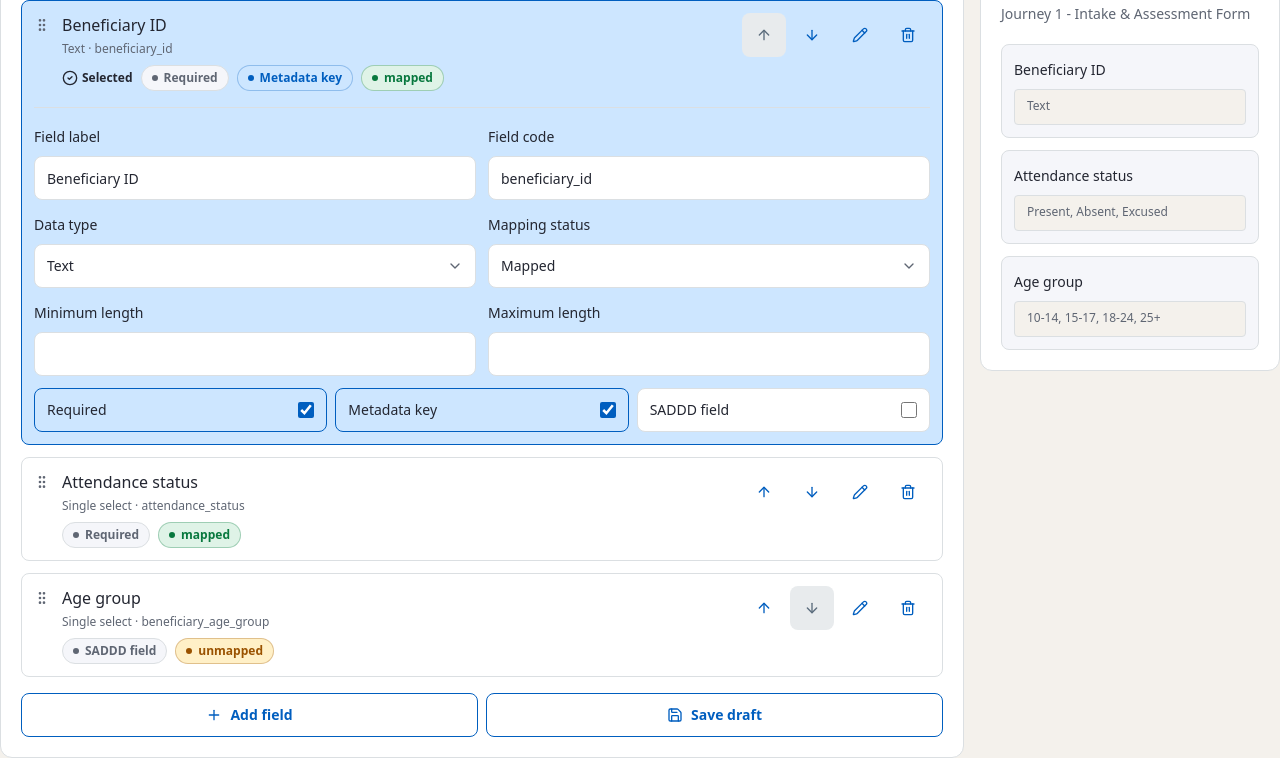
Test case: collection field selection › requires a contextual confirmation before deleting a field and restores useful focus
(page scrolled)
Click the button named "Delete Age group": (908, 608) x1=886 y1=586 x2=930 y2=630
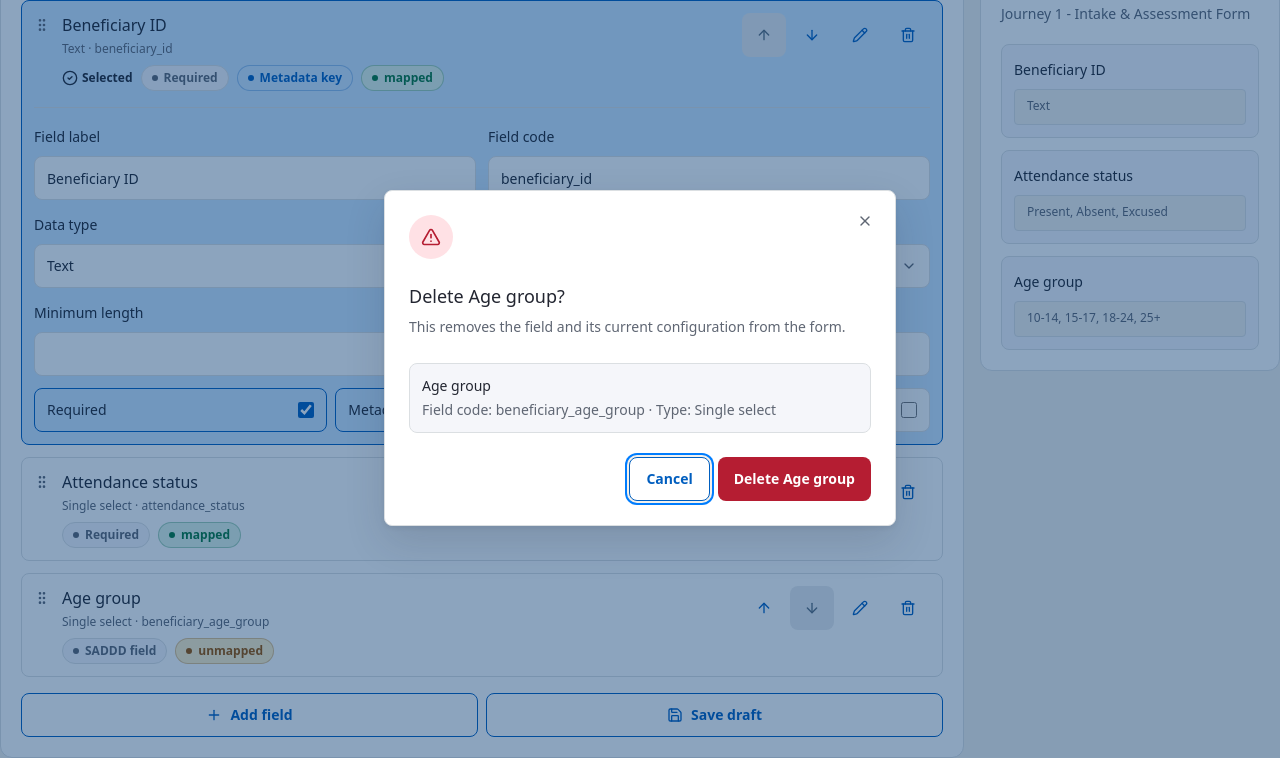
Expected: the dialog "Delete Age group?" shows "Field code: beneficiary_age_group", x1=384 y1=190 x2=896 y2=526
Click the button "Cancel": (670, 479) x1=629 y1=457 x2=710 y2=501
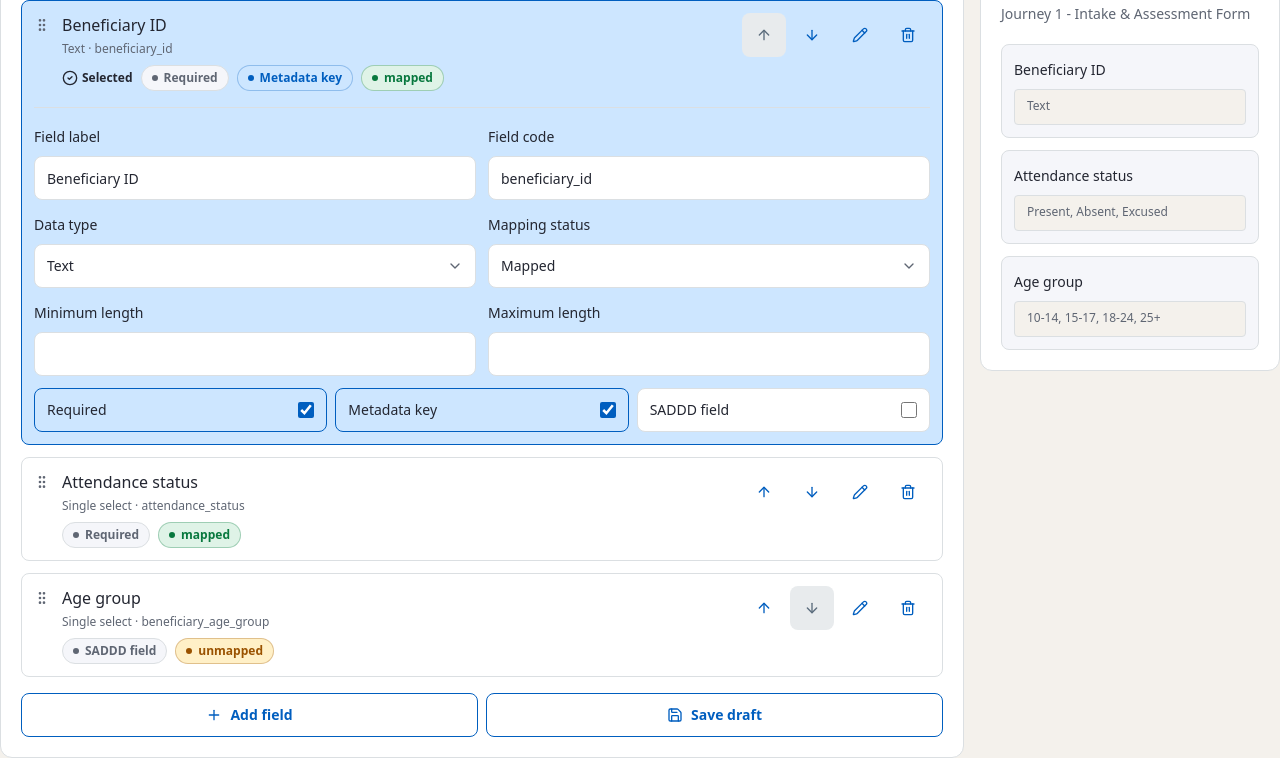
Click the button named "Delete Age group": (908, 608) x1=886 y1=586 x2=930 y2=630
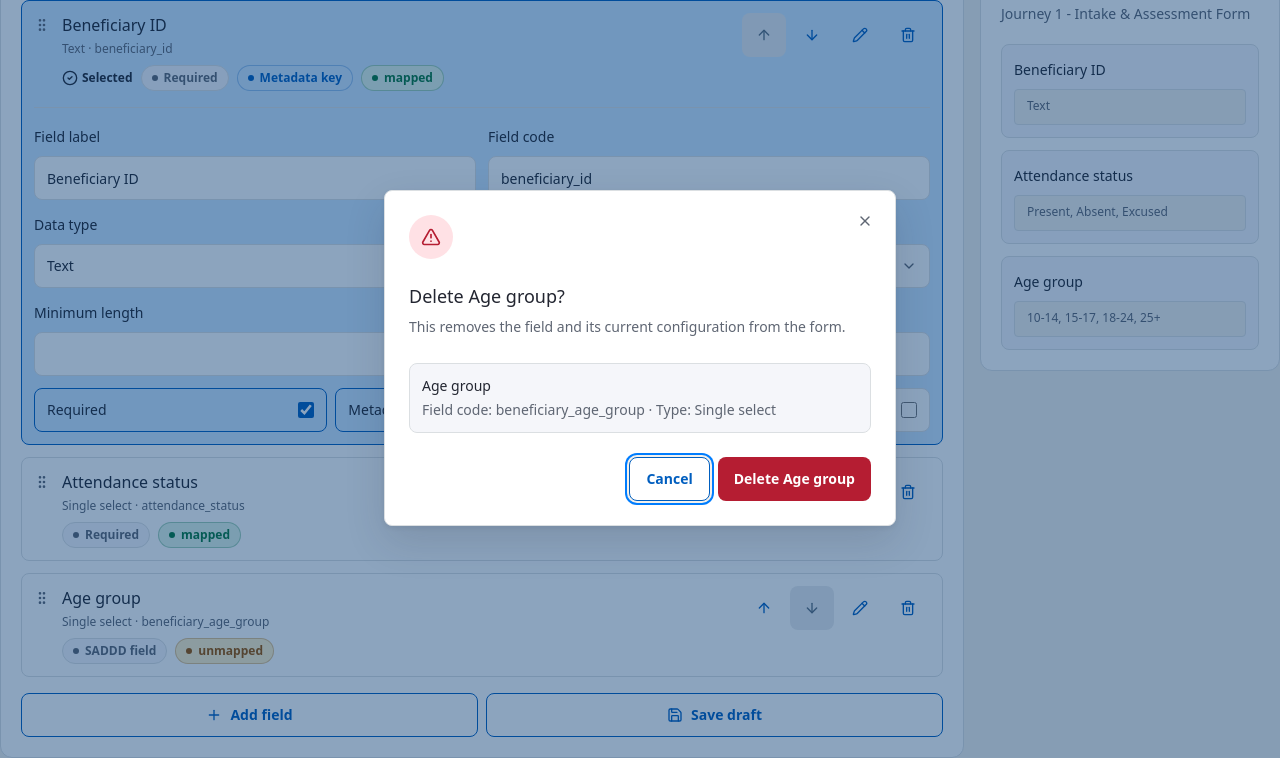
Click the button "Delete Age group": (794, 479) x1=718 y1=457 x2=871 y2=501
(page scrolled)
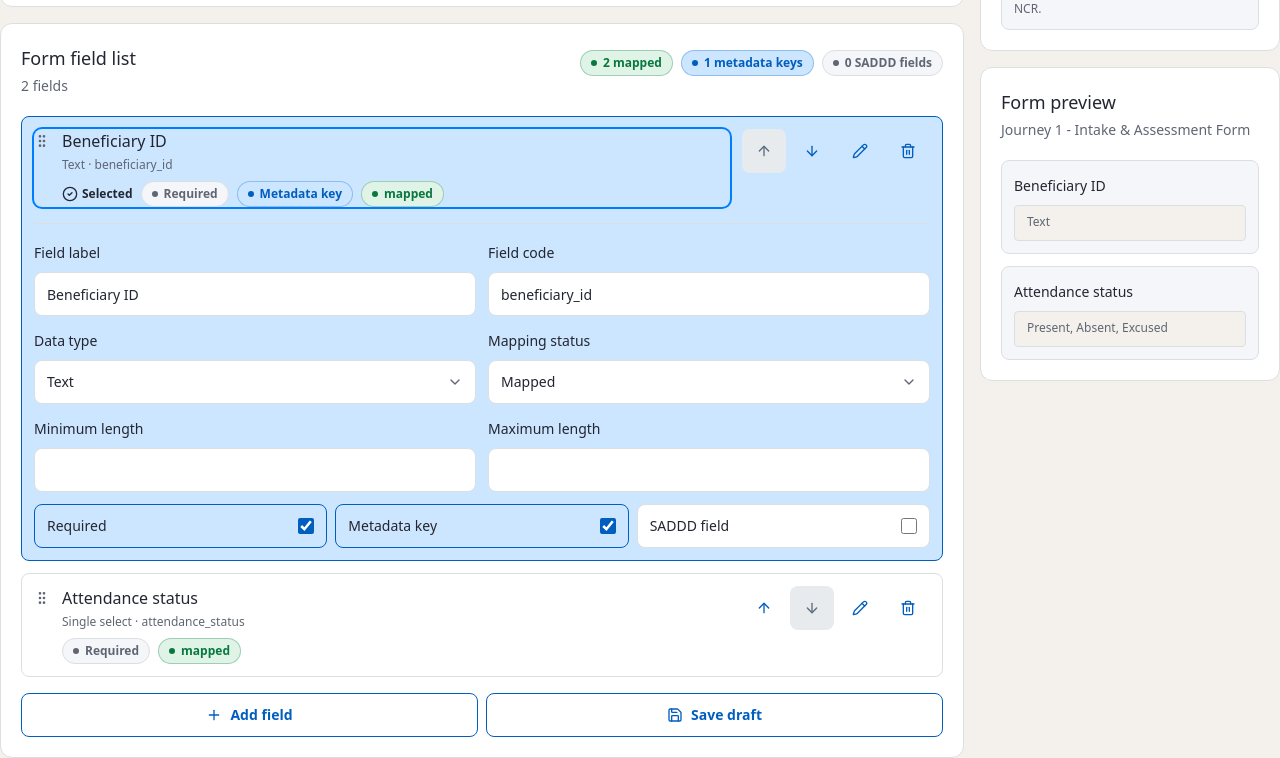
Expected: the heading "Delete Age group" is gone
